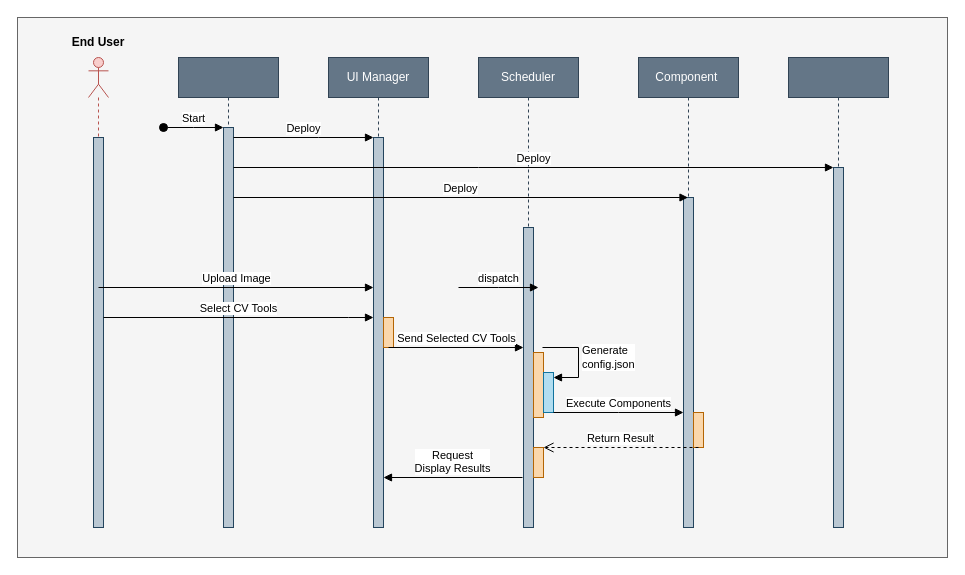
Some shapes in this 965 by 575 pixel diagram are drawn without their labels. The box of each missing label's shape, as (x1, y1, x2, y2) in pixels:
Component Manager: (788, 56, 888, 528)
Node Manager: (178, 56, 278, 528)
